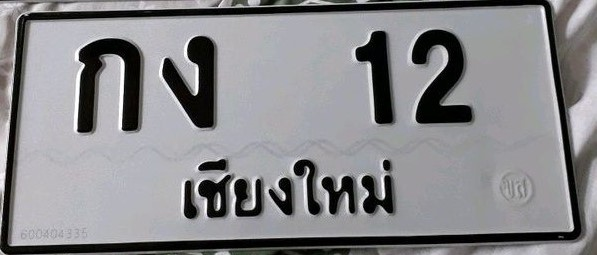txt01: (70, 34, 145, 136)
txt05: (158, 33, 220, 133)
